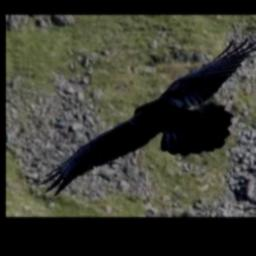Crow: (37, 39, 256, 197)
